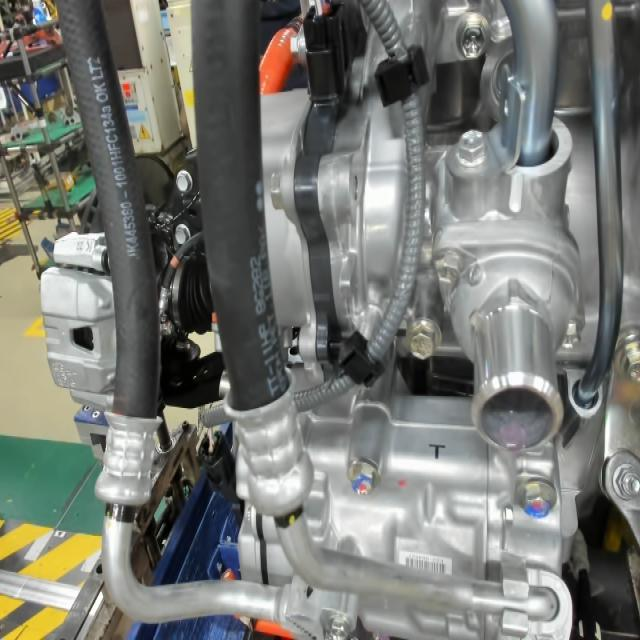Compressor-T: (426, 439, 449, 465)
